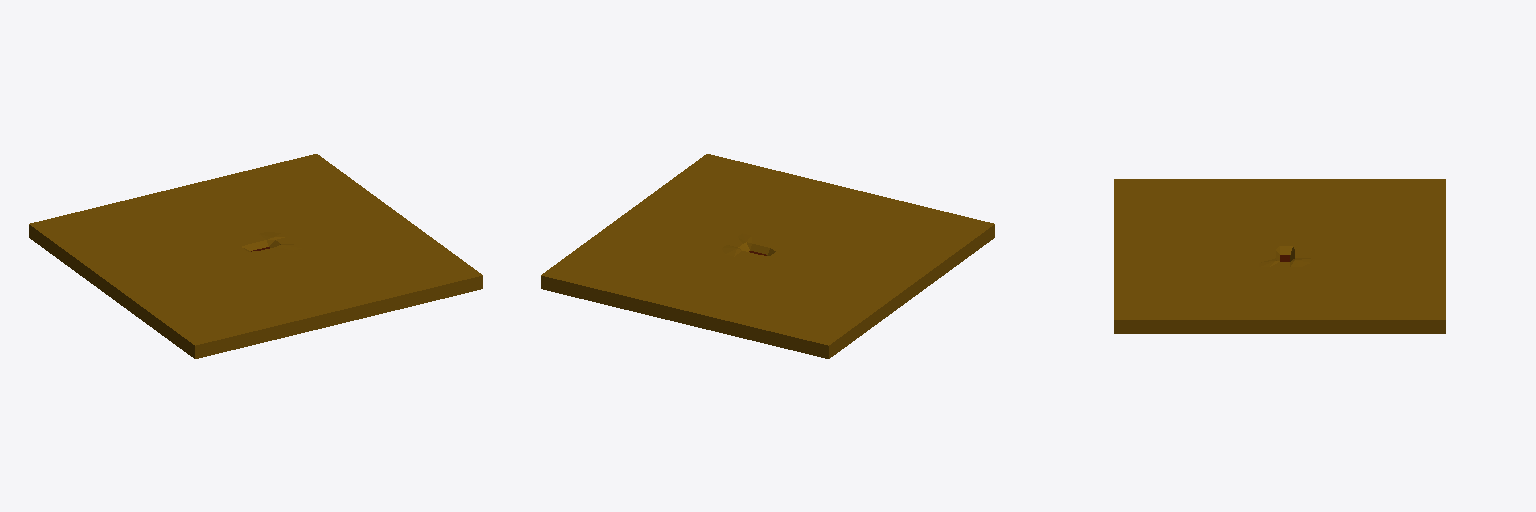
Rendered from ground-dig1.obj.
3 views of the same model, side by side, from view 1: azimuth 30°, elevation 25°; view 2: azimuth 150°, elevation 25°; view 3: azimuth 270°, elevation 25° (orthographic).
Visible parts, largest first — view 1: Cube_Cube.005; view 2: Cube_Cube.005; view 3: Cube_Cube.005.
Part boxes in pixels (x1,y1,x2,y2): Cube_Cube.005: (29,154,482,358); Cube_Cube.005: (541,154,994,358); Cube_Cube.005: (1114,179,1445,333).
Size of the model in its own units: 40 by 1.93 by 40.